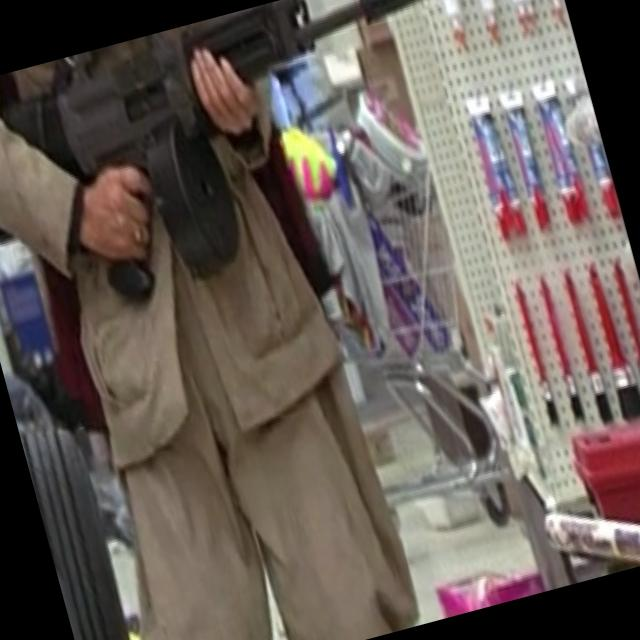Guns: (0, 0, 504, 356)
